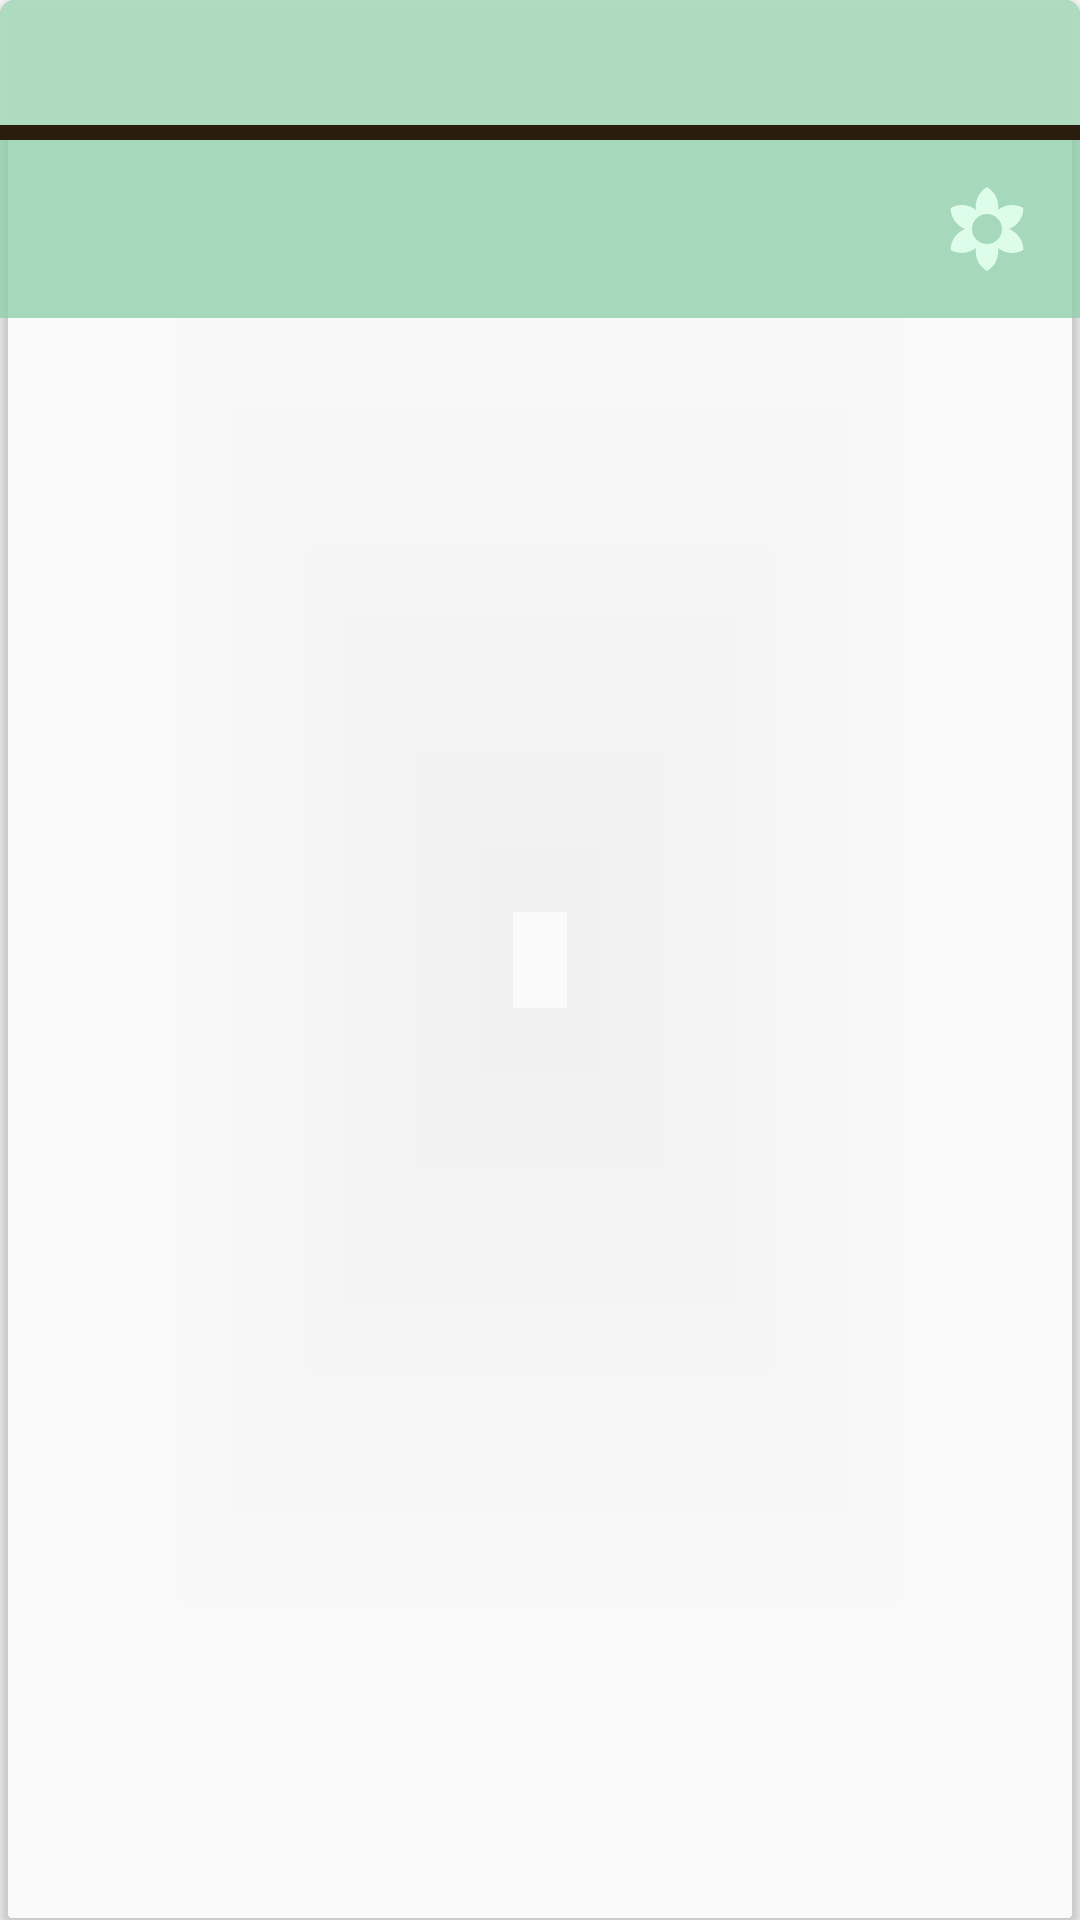

Point at icon controls on the screen. Image size 1080px x 1920px, points as [x,y].
filter vintage: [987,229]
